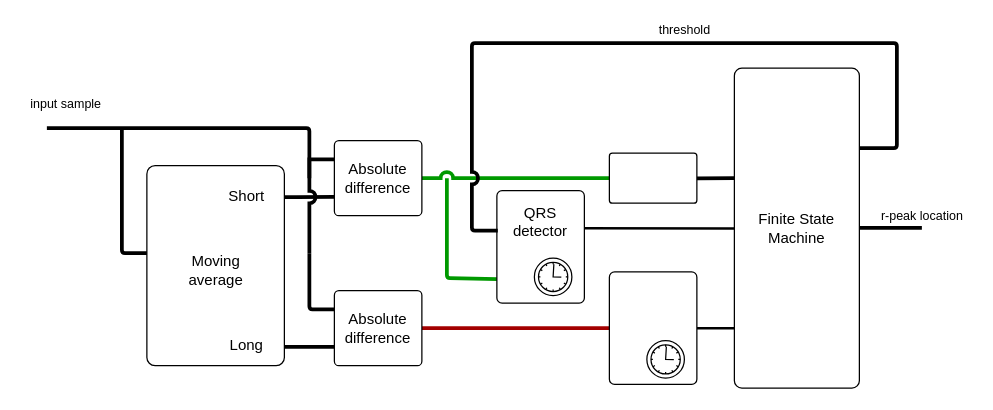
Some shapes in this 993 by 410 pixel diagram are drawn without their labels. The box of each missing label's shape, as (x1, y1, x2, y2) in pixels:
Extremum detector: (608, 271, 697, 384)
Maximum hold: (608, 152, 697, 203)
